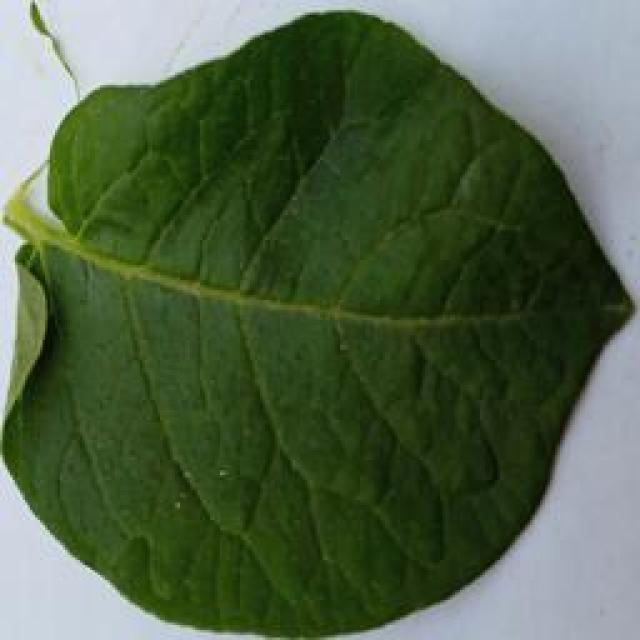Potato_Healthy: (7, 12, 624, 633)
